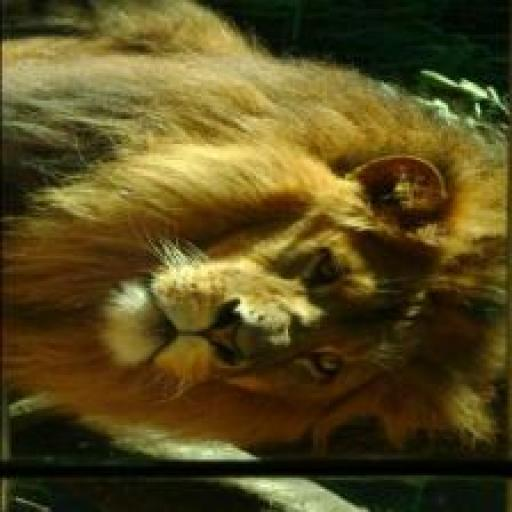lion: (2, 57, 510, 482)
